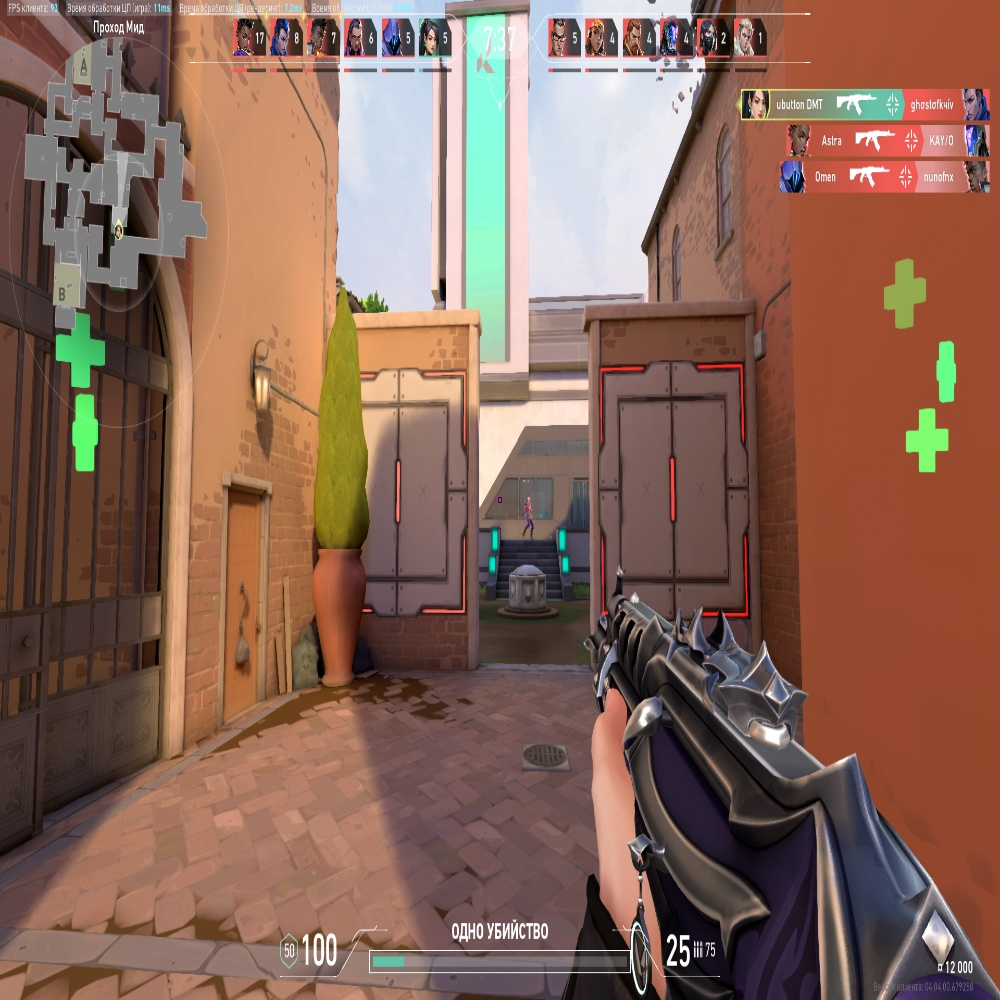body: (525, 505, 532, 519)
head: (527, 497, 530, 503)
